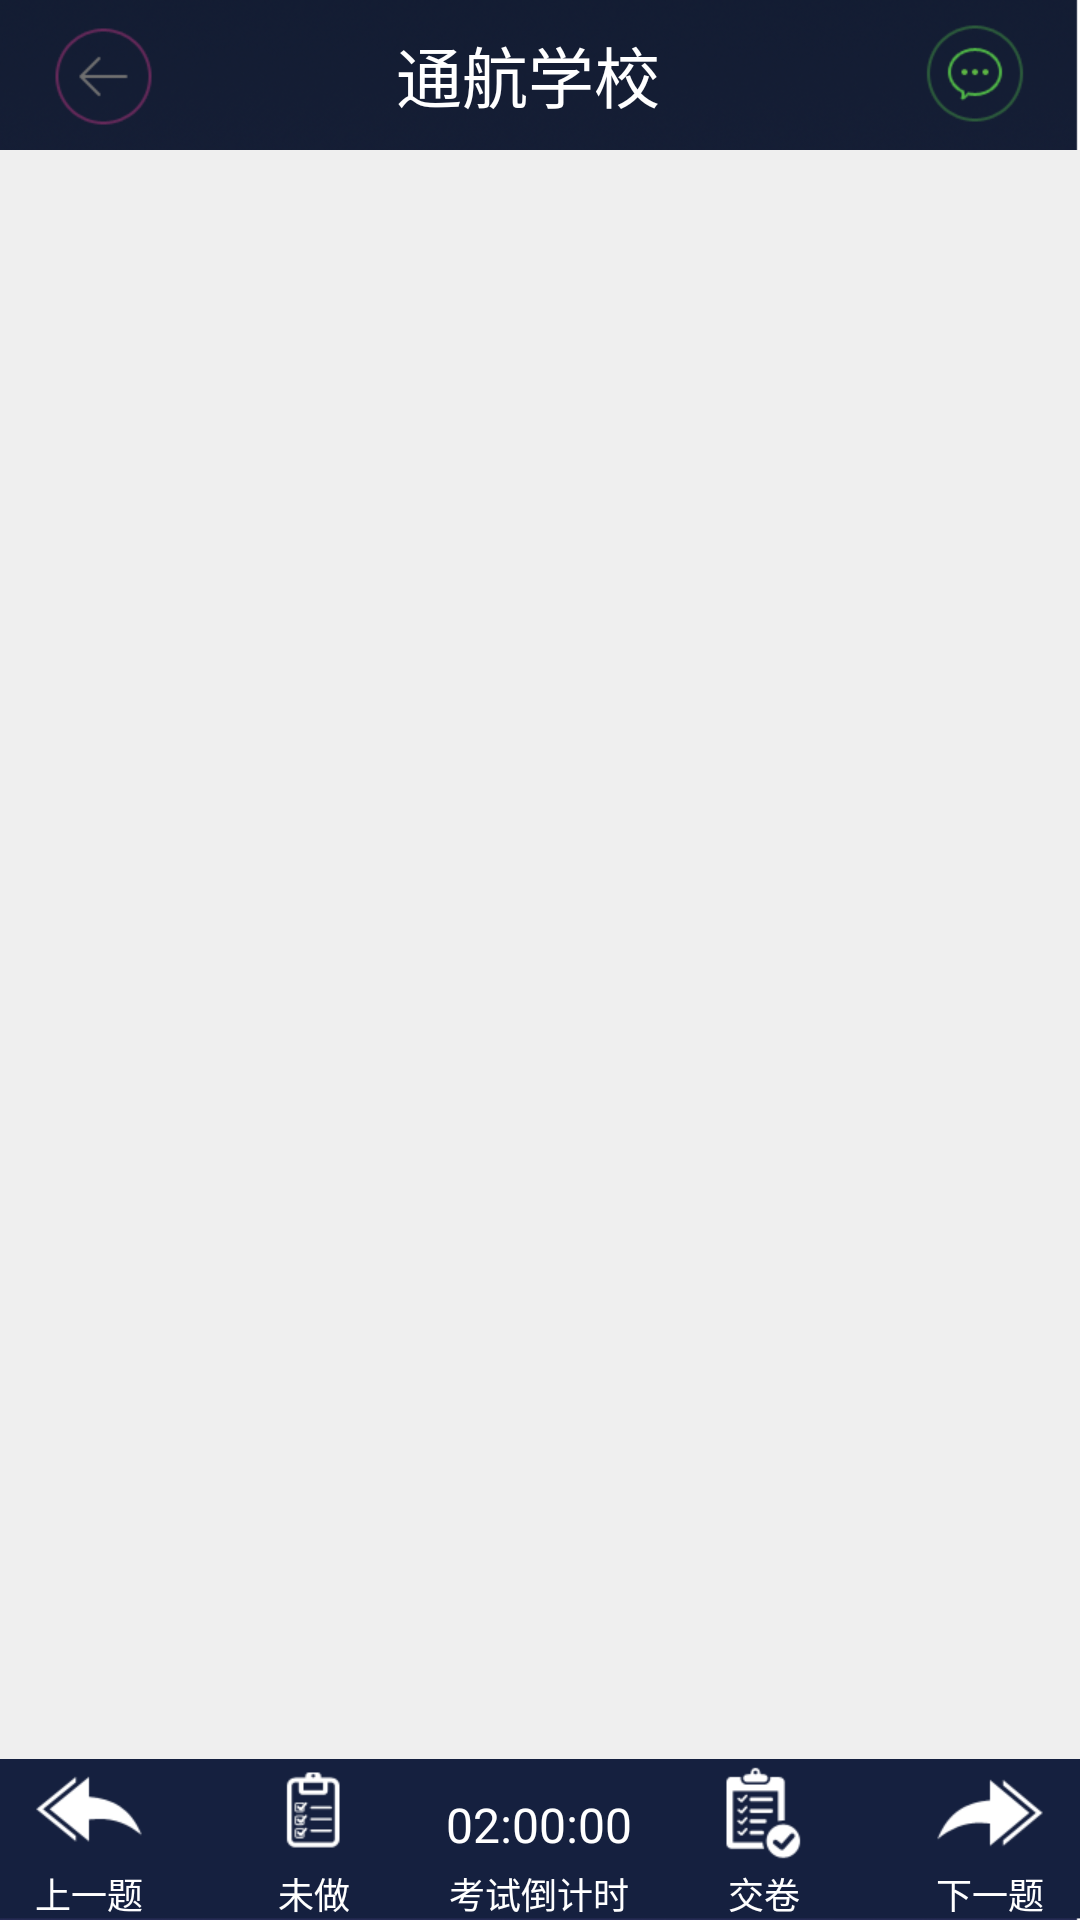

Where icons sit on this 1080 x 1920 app screen, as {"left": x1, "top": y1, "right": x2, "bottom": y2}:
back: {"left": 55, "top": 28, "right": 152, "bottom": 125}
